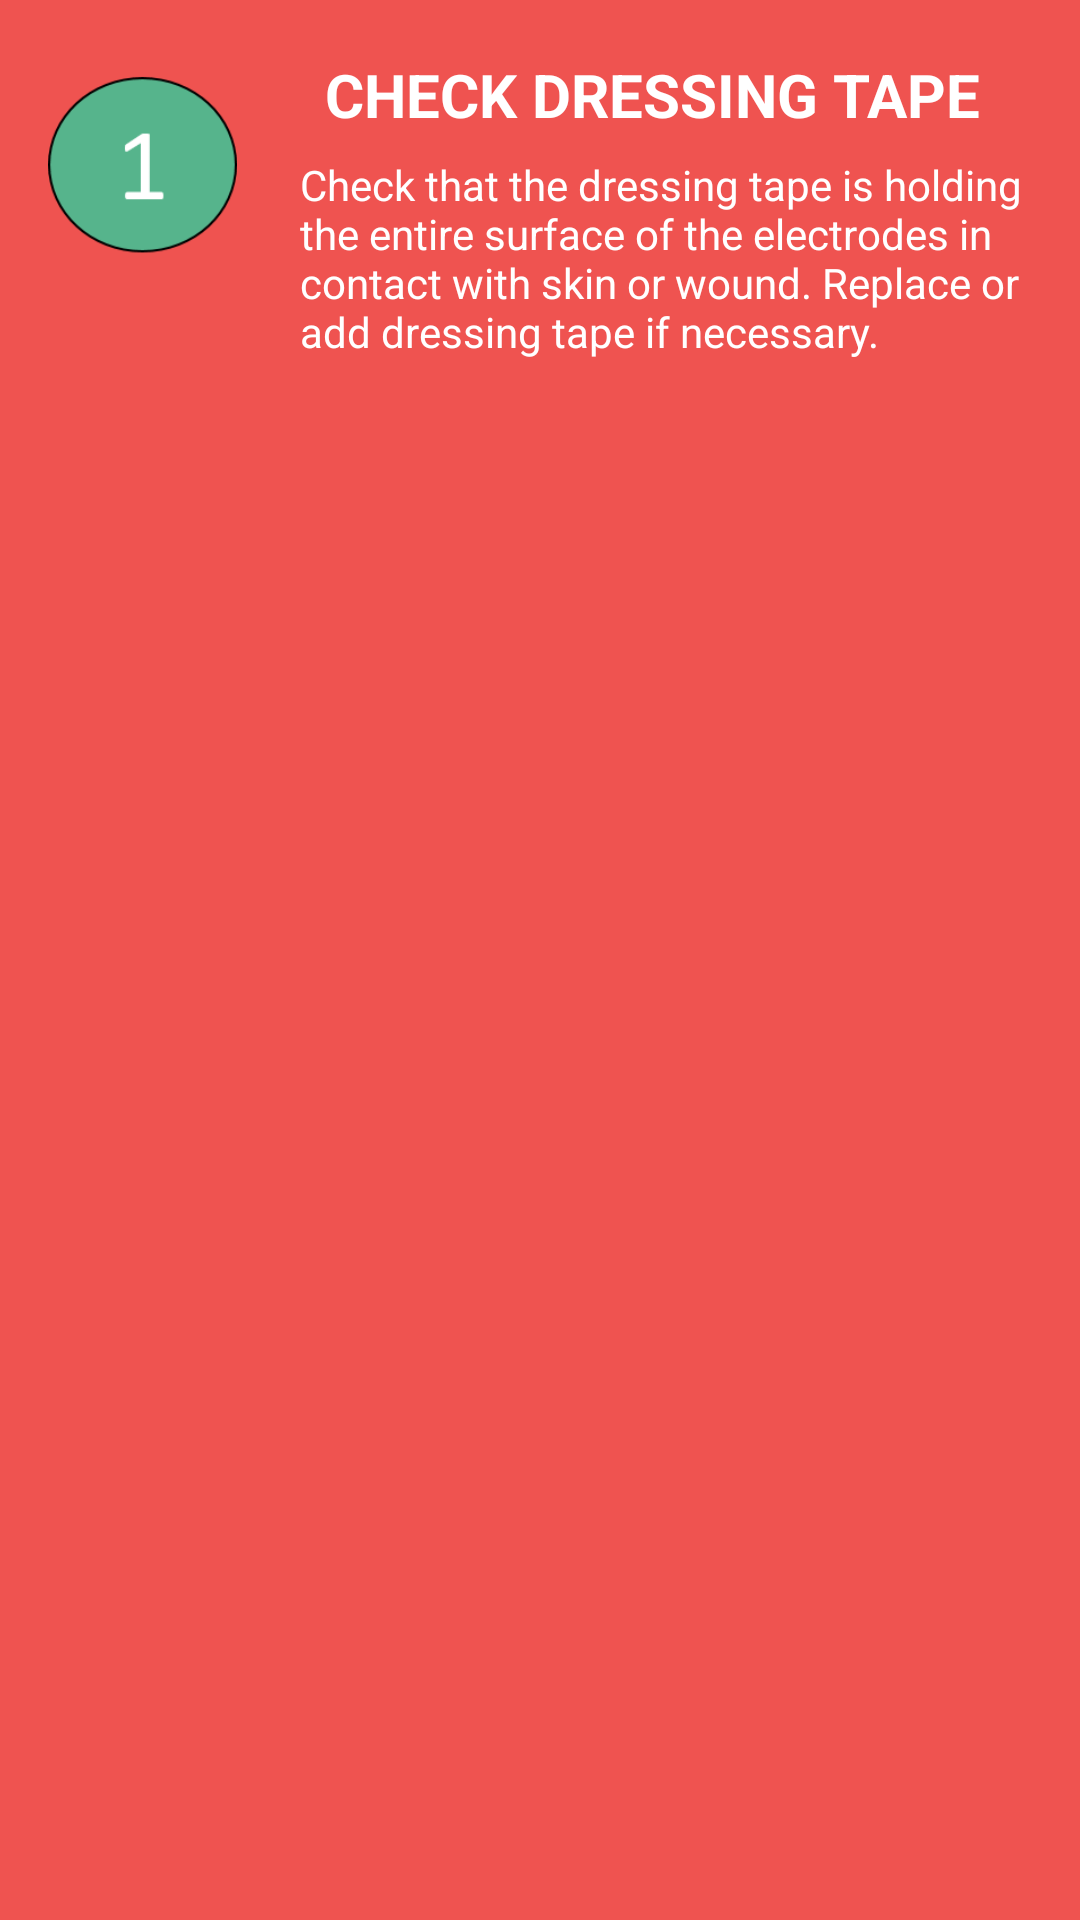

Named icons in this screenshot (1080w x 1920h) and their centers, point (x, y):
list number: point (142, 165)
